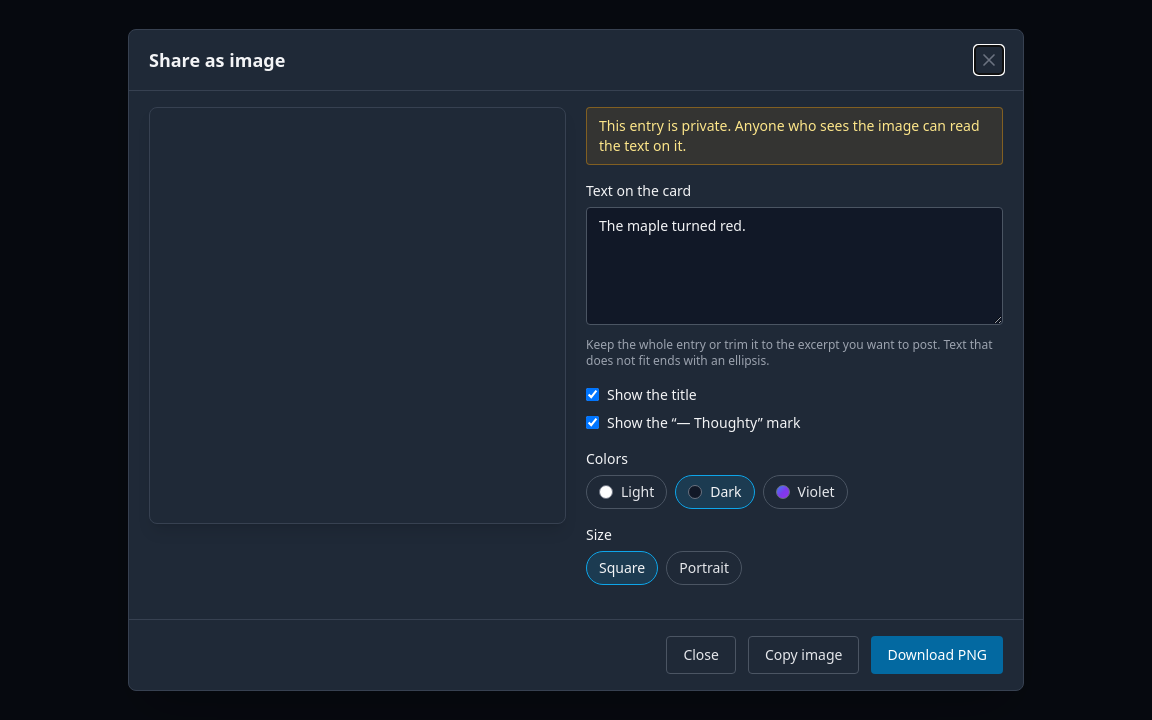
it: ShareImageDialog › downloads the PNG named after the entry day
What coordinates should you click on to do the following:
click the button "Download PNG"
I would click on:
 (937, 655)
Its box is [871,636,1003,674].
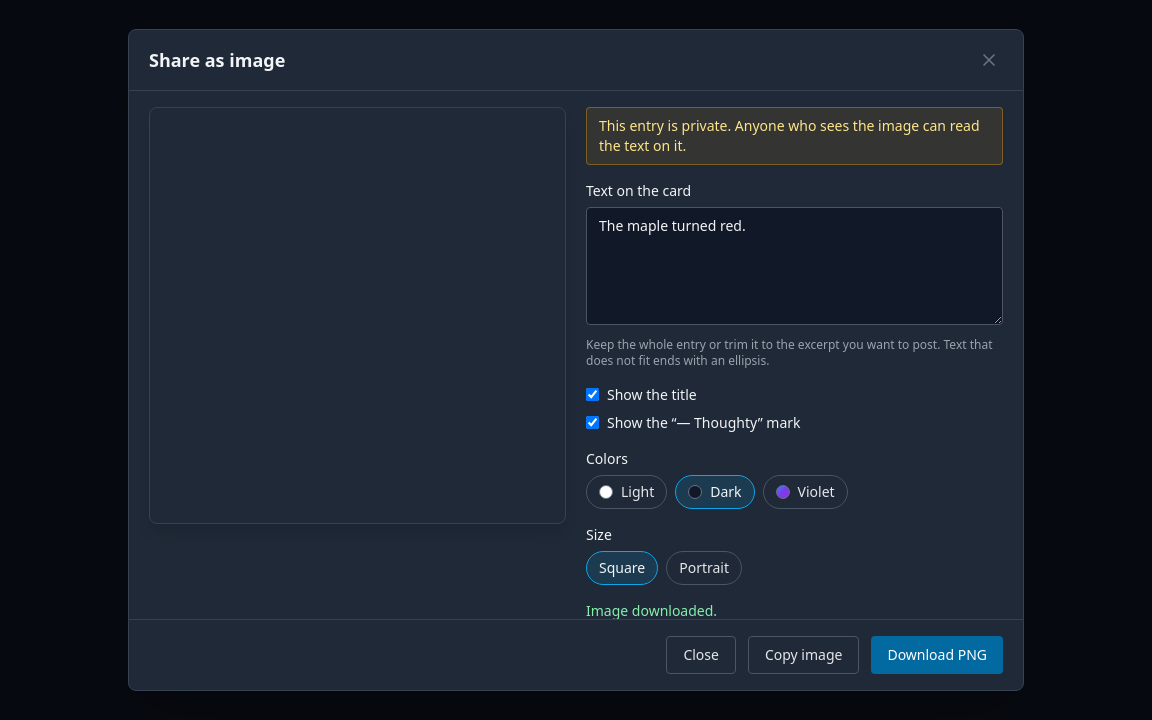
Expected: the text "Image downloaded." is shown, [586,601,717,619]
